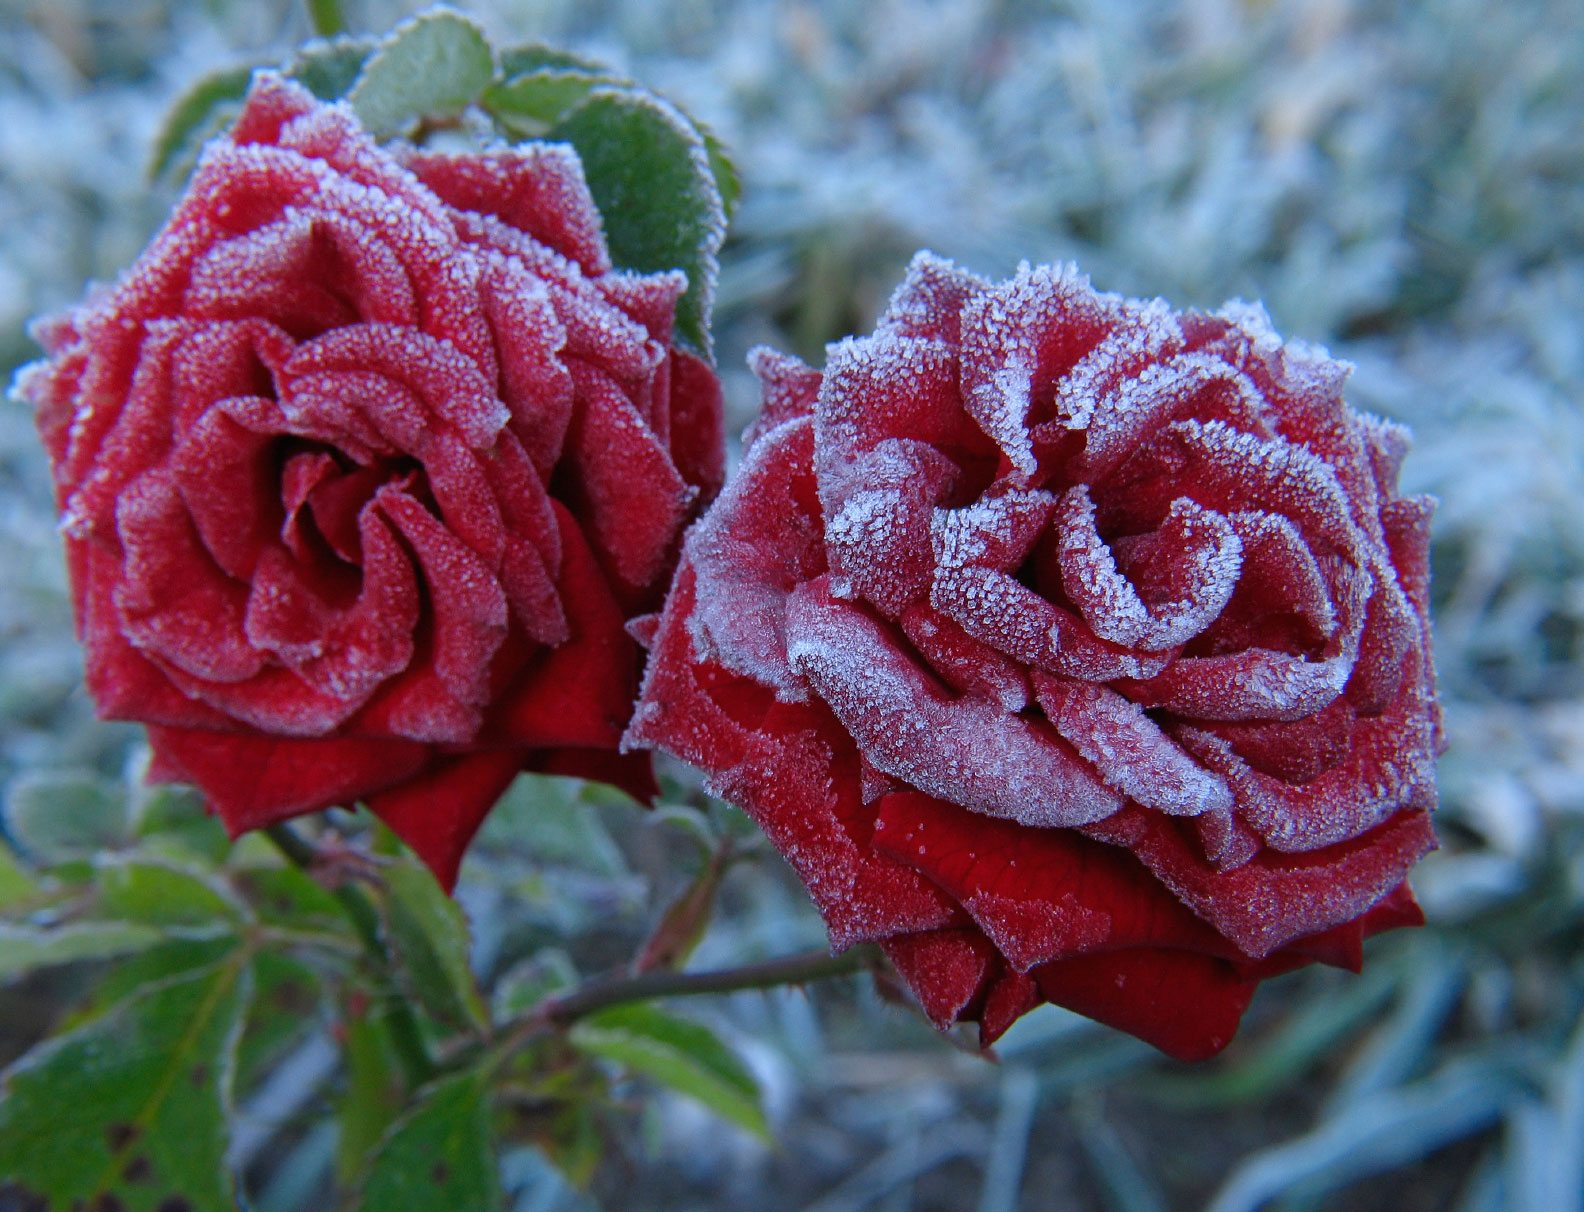rose: (693, 227, 1471, 1060), (33, 101, 727, 816)
